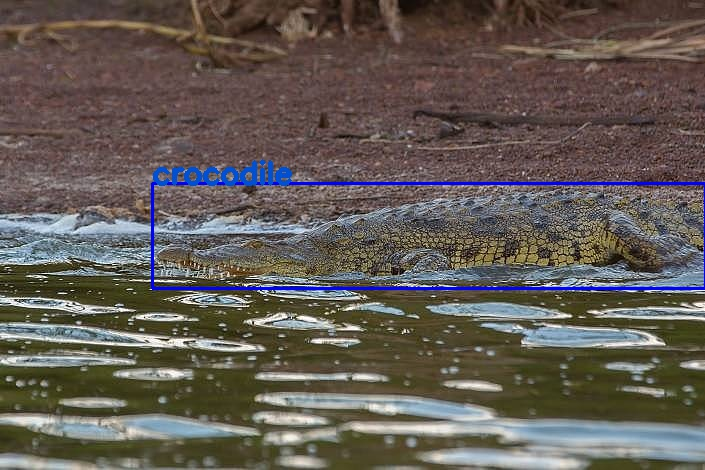crocodile: (151, 183, 704, 288)
